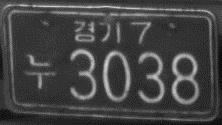0: (103, 50, 132, 101)
3: (137, 50, 166, 105), (69, 48, 97, 102)
7: (130, 19, 151, 45)
8: (171, 52, 200, 106)
경기_O: (72, 19, 122, 45)
누: (22, 52, 57, 90)
